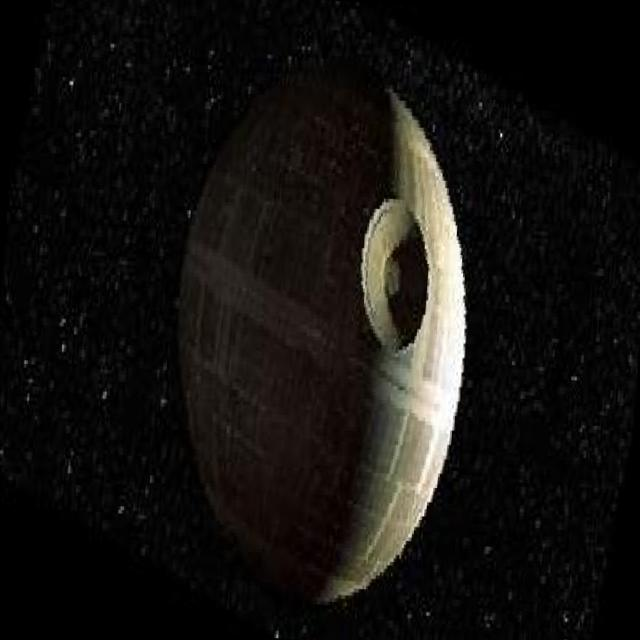Death Star: (148, 41, 490, 624)
